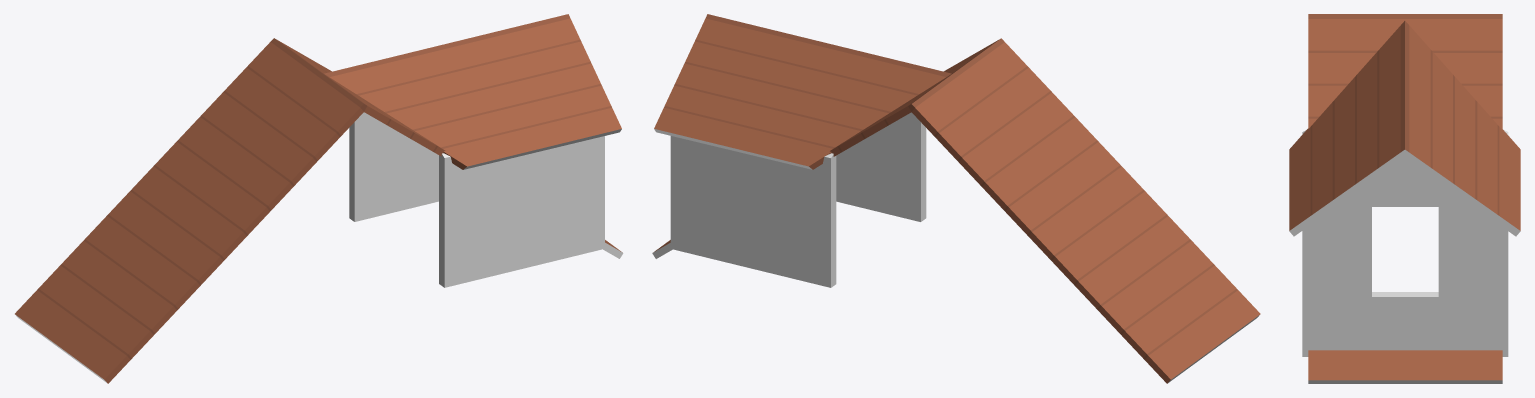
Rendered from Roof2_C5_04.fbx.
3 renders of one model, left to right at view 1: azimuth 30°, elevation 25°; view 2: azimuth 150°, elevation 25°; view 3: azimuth 270°, elevation 25°, orthographic. The views are drawn at different scales.
Parts seen in each view (by area): view 1: Roof2_C5_04; view 2: Roof2_C5_04; view 3: Roof2_C5_04.
Boxes of the visible parts, x1=… form: Roof2_C5_04: x1=15, y1=14, x2=623, y2=383; Roof2_C5_04: x1=652, y1=14, x2=1260, y2=383; Roof2_C5_04: x1=1289, y1=14, x2=1520, y2=383.
Size of the model in its own units: 833 by 334 by 298.
